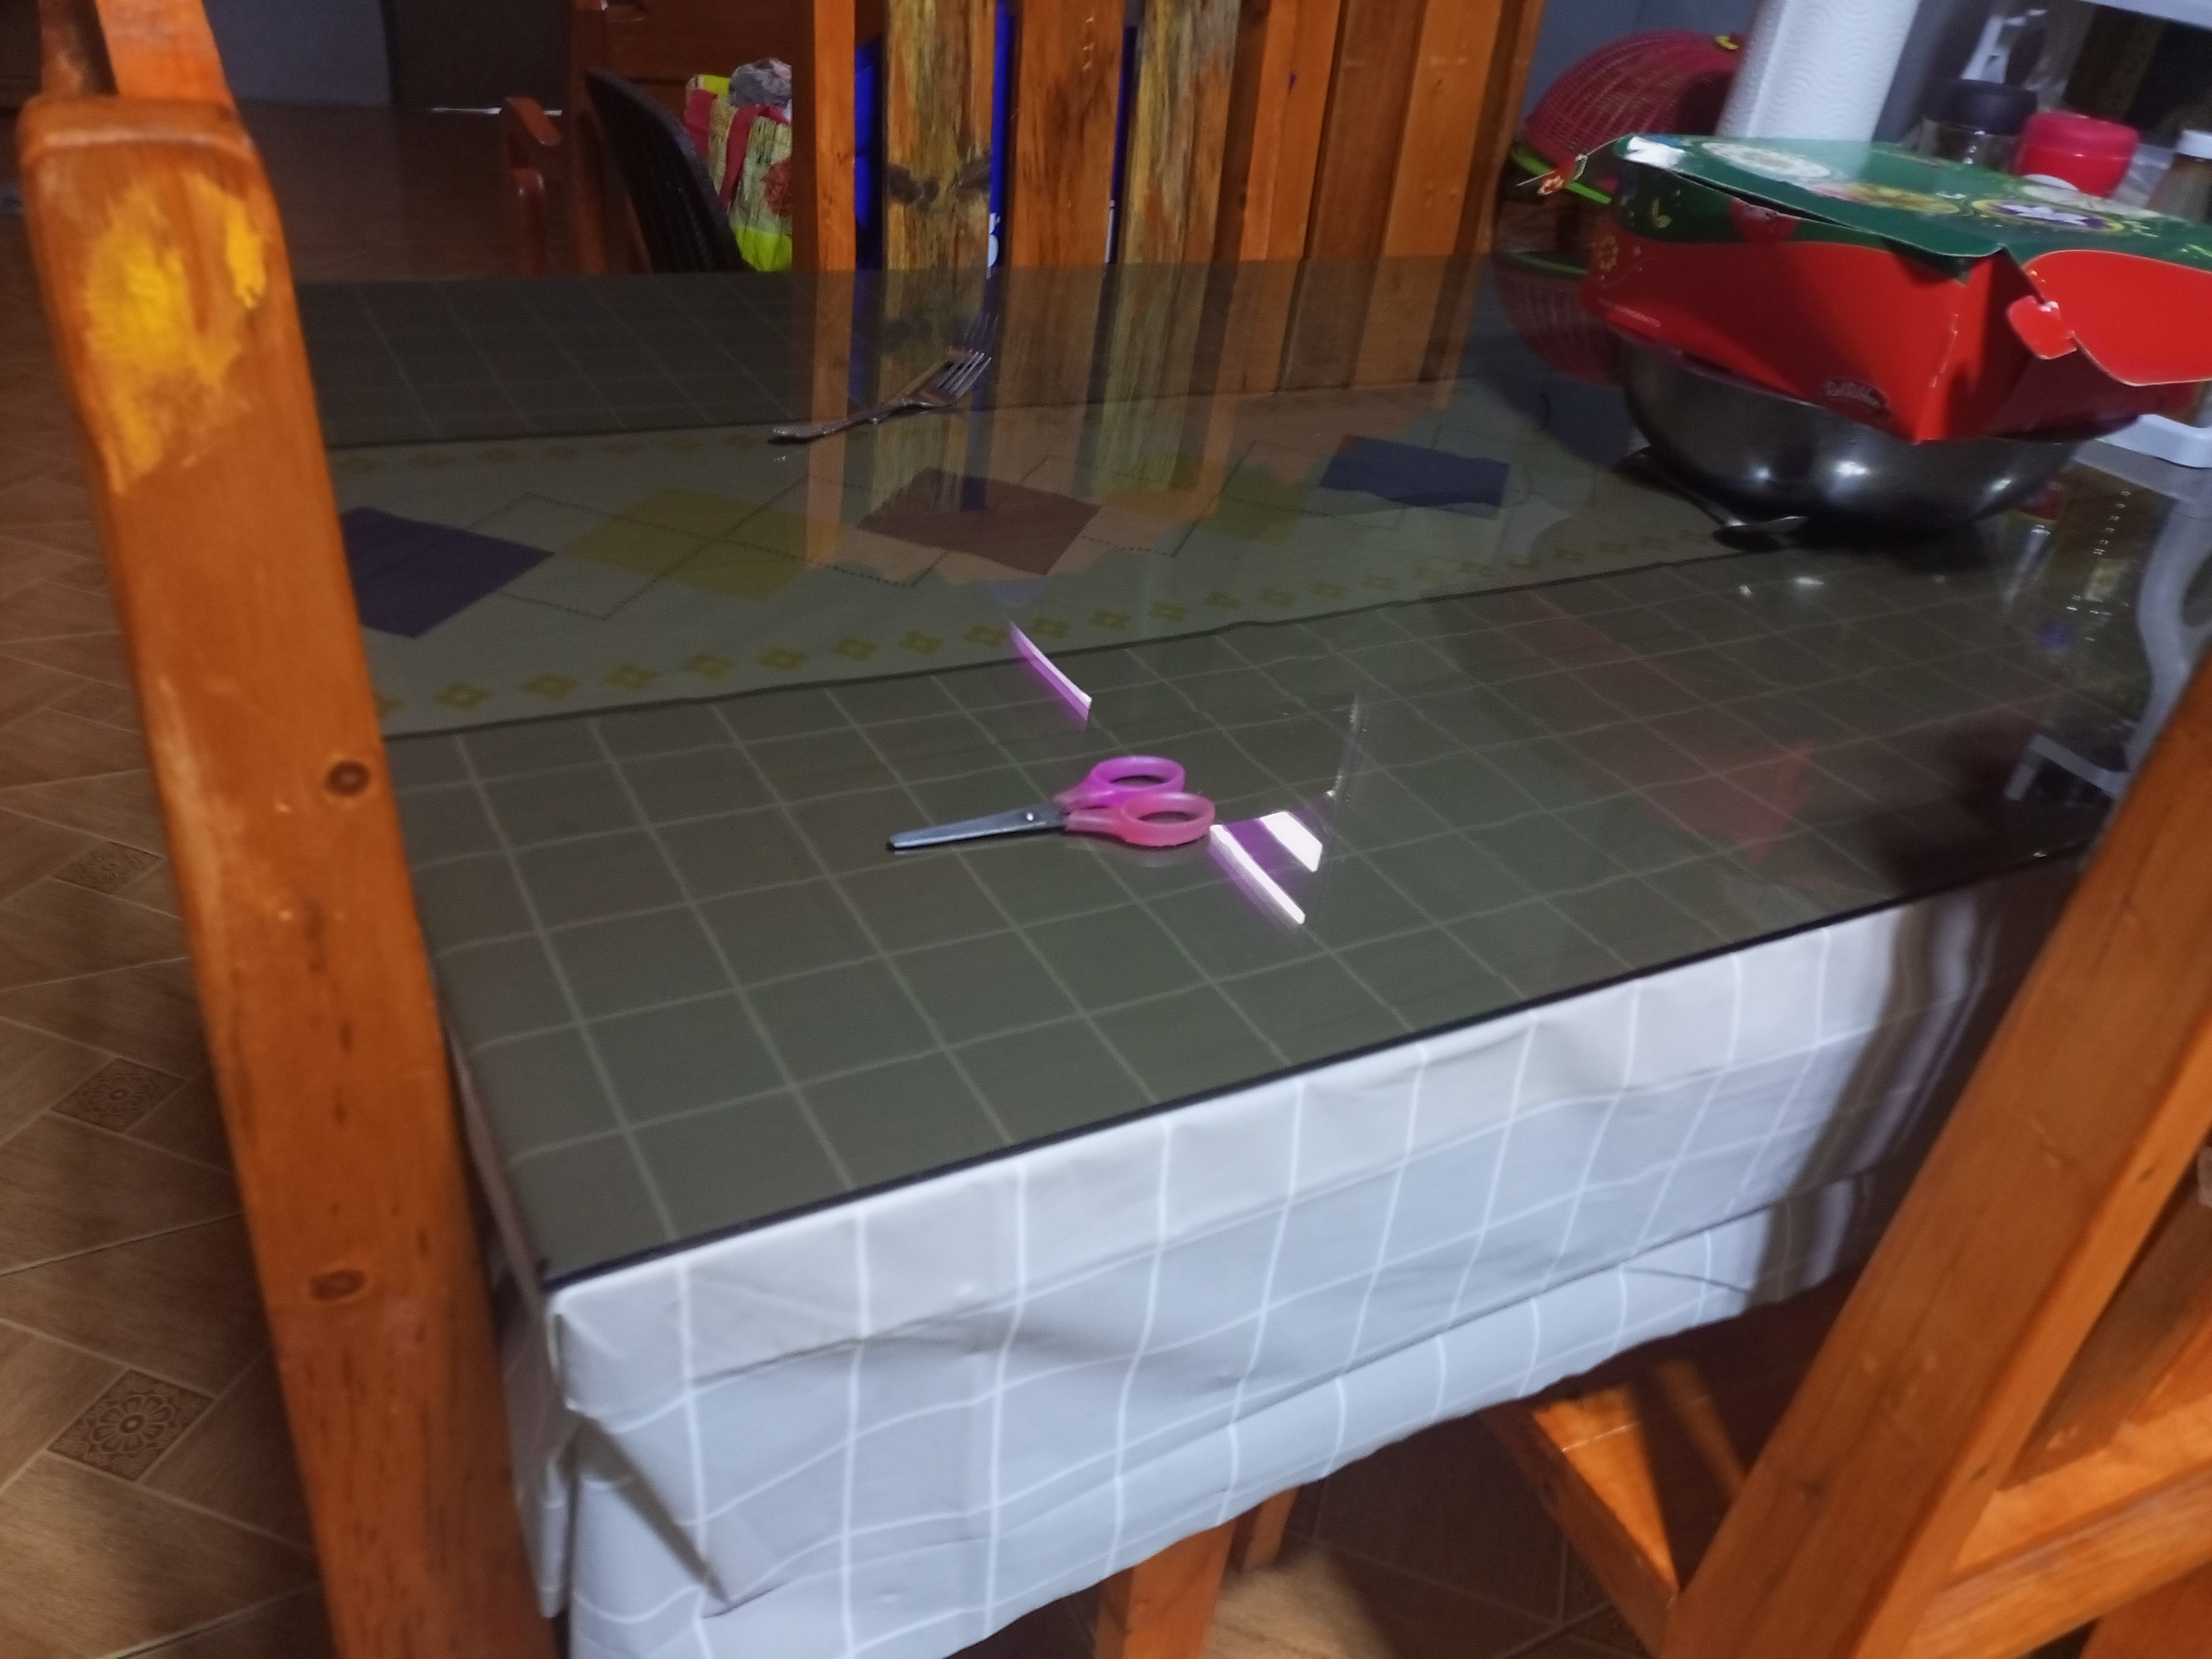scissor: (888, 744, 1219, 861)
